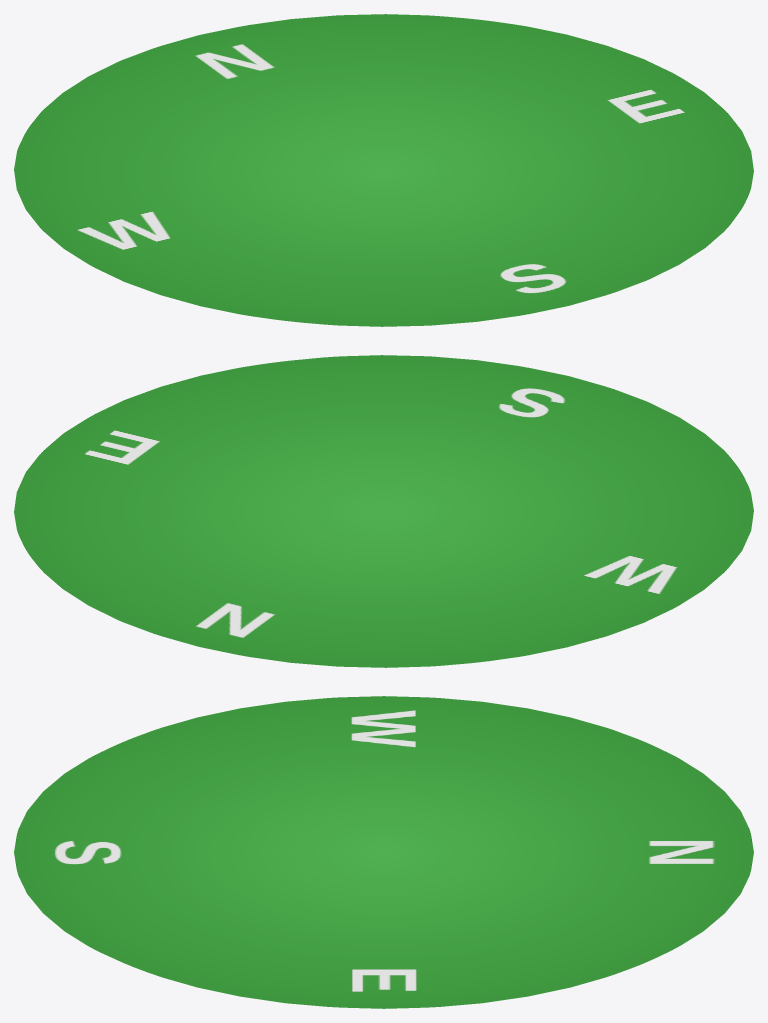
The model's file is Floor.fbx.
The picture shows the model from 3 angles, top to bottom: view 1: azimuth 30°, elevation 25°; view 2: azimuth 150°, elevation 25°; view 3: azimuth 270°, elevation 25°; orthographic projection.
Parts seen in each view (by area): view 1: BézierCircle; view 2: BézierCircle; view 3: BézierCircle.
Boxes of the visible parts, <box> form: BézierCircle: <box>14,14,753,326</box>; BézierCircle: <box>14,355,753,667</box>; BézierCircle: <box>14,696,753,1008</box>.
Bounding box in the file's own units: 200 × 0 × 200.
